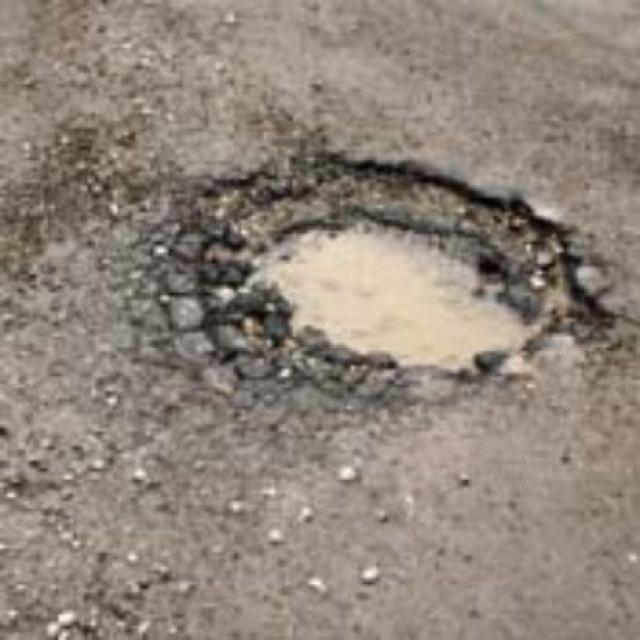pothole: (157, 149, 616, 387)
